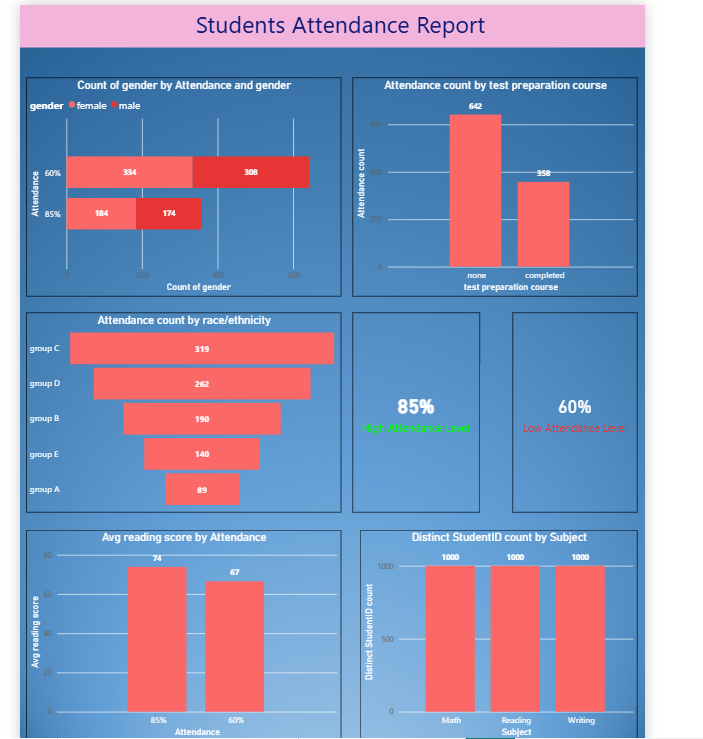

This screenshot's page, from the dashboard's own definition file:
{"tool":"powerbi","page":{"name":"Student's attendance report","canvas":[1000,1200],"ordinal":1},"visuals":[{"type":"textbox","box":[0,0,1280,68],"z":0},{"type":"barChart","fields":{"Category":["Attendance.Attendance"],"Y":["CountNonNull(StudentsPerformance (1).gender)"],"Series":["Students table.gender"]},"box":[10,90,505,375],"z":1000},{"type":"funnel","fields":{"Category":["Students table.race/ethnicity"],"Y":["Attendance.Attendance count"]},"box":[10,492,504,320],"z":2000},{"type":"columnChart","fields":{"Y":["Attendance.Attendance count"],"Category":["Students table.test preparation course"]},"box":[532.5,90,455,375],"z":3000},{"type":"card","fields":{"Values":["Attendance.High Attendance"]},"box":[532,492,204,320],"z":4000},{"type":"card","fields":{"Values":["Attendance.Low Attendance"]},"box":[788,492,200,320],"z":5000},{"type":"columnChart","fields":{"Category":["Attendance.Attendance"],"Y":["Attendance.Avg reading score"]},"box":[10,840,504,338],"z":6000},{"type":"columnChart","fields":{"Category":["Marks_Raw.Subject"],"Y":["Attendance.Distinct StudentID count"]},"box":[544,840,444,338],"z":7000}]}

Visuals, with their boxes on the page's 1000x1200 design canvas (x1, y1, x2, y2). These are canvas units, not pixel positions in the 703x739 screenshot, which may show the page scaled, cropped or inside an application window:
textbox: l=0, t=0, r=1280, b=68
barChart - Attendance.Attendance x CountNonNull(StudentsPerformance (1).gender): l=10, t=90, r=515, b=465
funnel - Students table.race/ethnicity x Attendance.Attendance count: l=10, t=492, r=514, b=812
columnChart - Attendance.Attendance count x Students table.test preparation course: l=532, t=90, r=988, b=465
card - Attendance.High Attendance: l=532, t=492, r=736, b=812
card - Attendance.Low Attendance: l=788, t=492, r=988, b=812
columnChart - Attendance.Attendance x Attendance.Avg reading score: l=10, t=840, r=514, b=1178
columnChart - Marks_Raw.Subject x Attendance.Distinct StudentID count: l=544, t=840, r=988, b=1178
